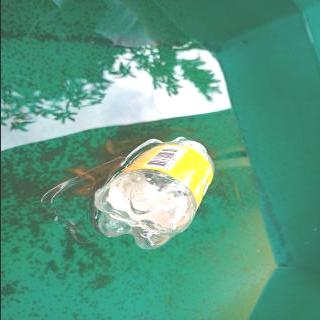bottle: (92, 139, 217, 252)
